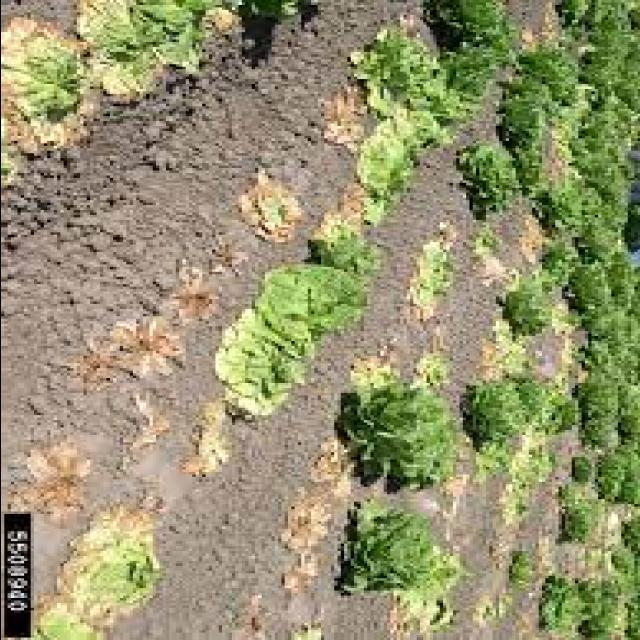Wilt_and_leaf_blight_on_lettuce: (4, 6, 183, 152), (49, 511, 180, 621), (348, 110, 436, 220)
